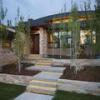stairs: (25, 74, 58, 96), (32, 55, 55, 70)
